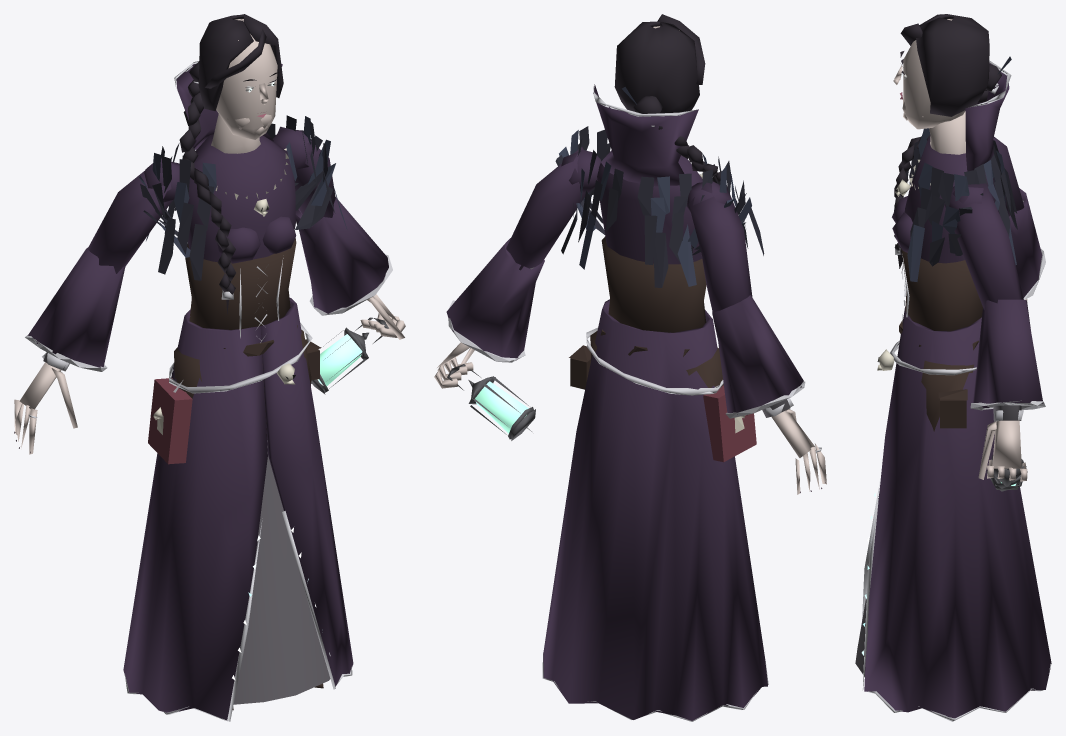
Rendered from human_robe.glb.
The picture shows the model from 3 angles, left to right: view 1: azimuth 30°, elevation 25°; view 2: azimuth 150°, elevation 25°; view 3: azimuth 270°, elevation 25°; orthographic projection.
Visible parts, largest first — view 1: human_robe__OW_Char_MaelisDray_MESH_d; view 2: human_robe__OW_Char_MaelisDray_MESH_d; view 3: human_robe__OW_Char_MaelisDray_MESH_d.
Part boxes in pixels (bbox=[...]): human_robe__OW_Char_MaelisDray_MESH_d: bbox=[14, 14, 405, 721]; human_robe__OW_Char_MaelisDray_MESH_d: bbox=[434, 14, 826, 721]; human_robe__OW_Char_MaelisDray_MESH_d: bbox=[855, 14, 1051, 721].
Size of the model in its own units: 1.06 by 1.76 by 0.4762.
